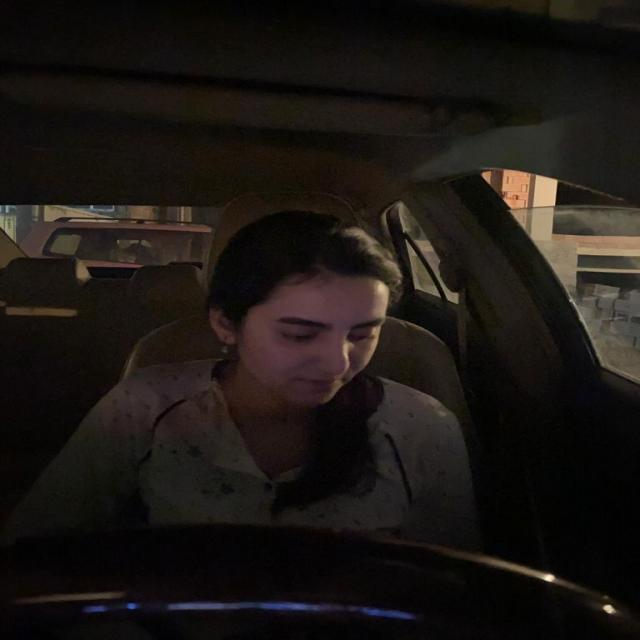person: (200, 201, 410, 411)
